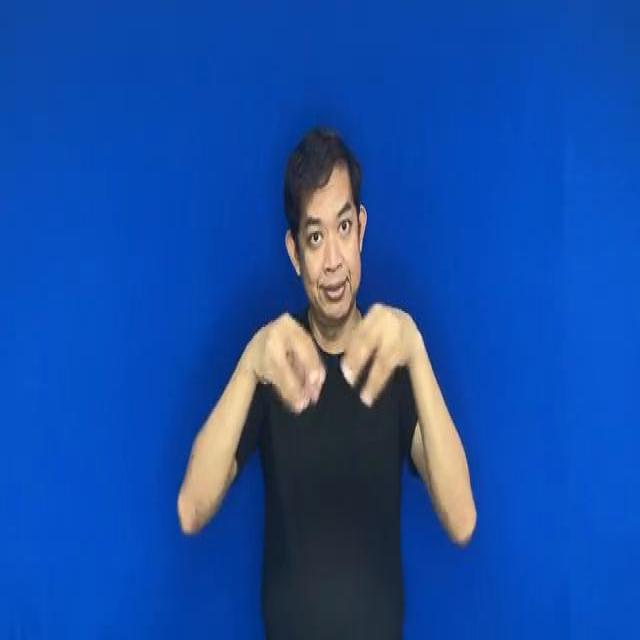egg: (240, 283, 427, 430)
